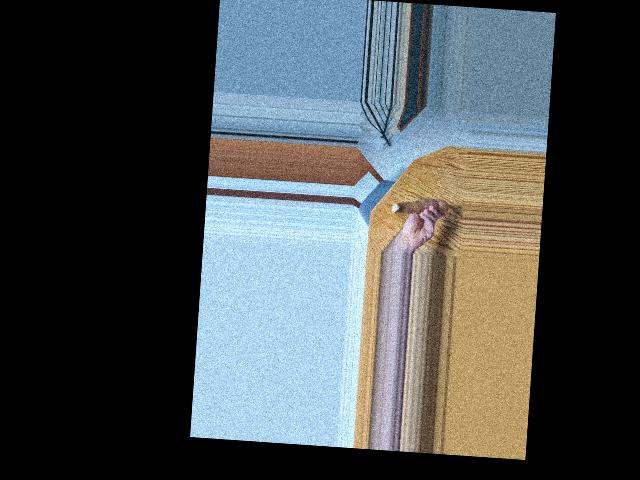sweet_potato: (392, 194, 449, 222)
